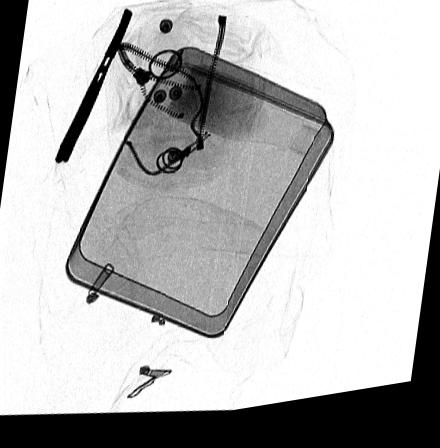Pliers: (56, 12, 133, 165)
